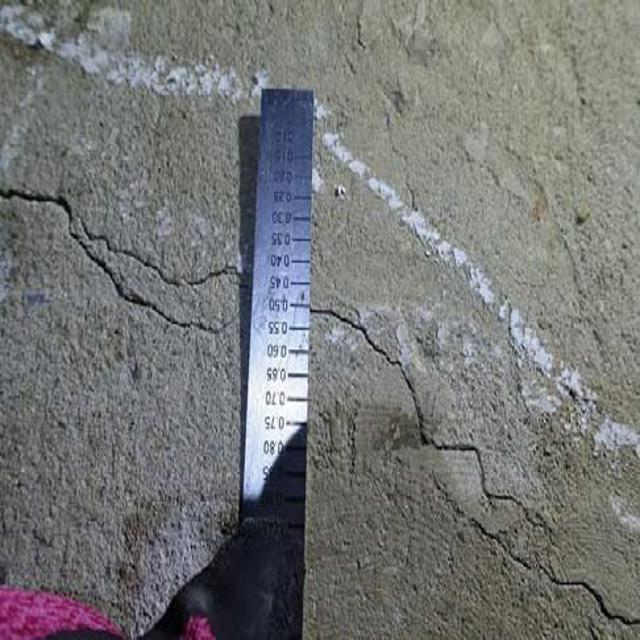crack: (323, 296, 638, 631), (9, 164, 250, 344)
